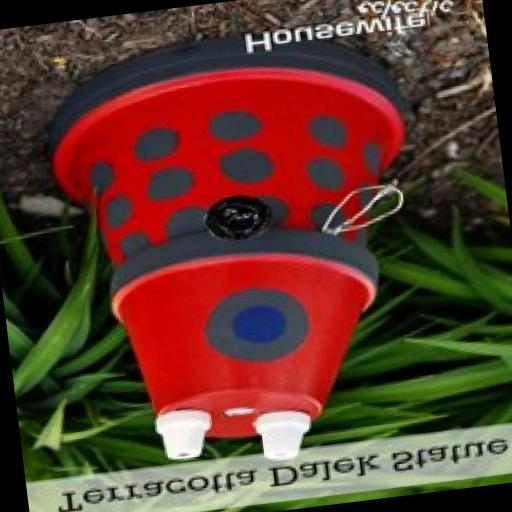dalek: (23, 34, 448, 479)
